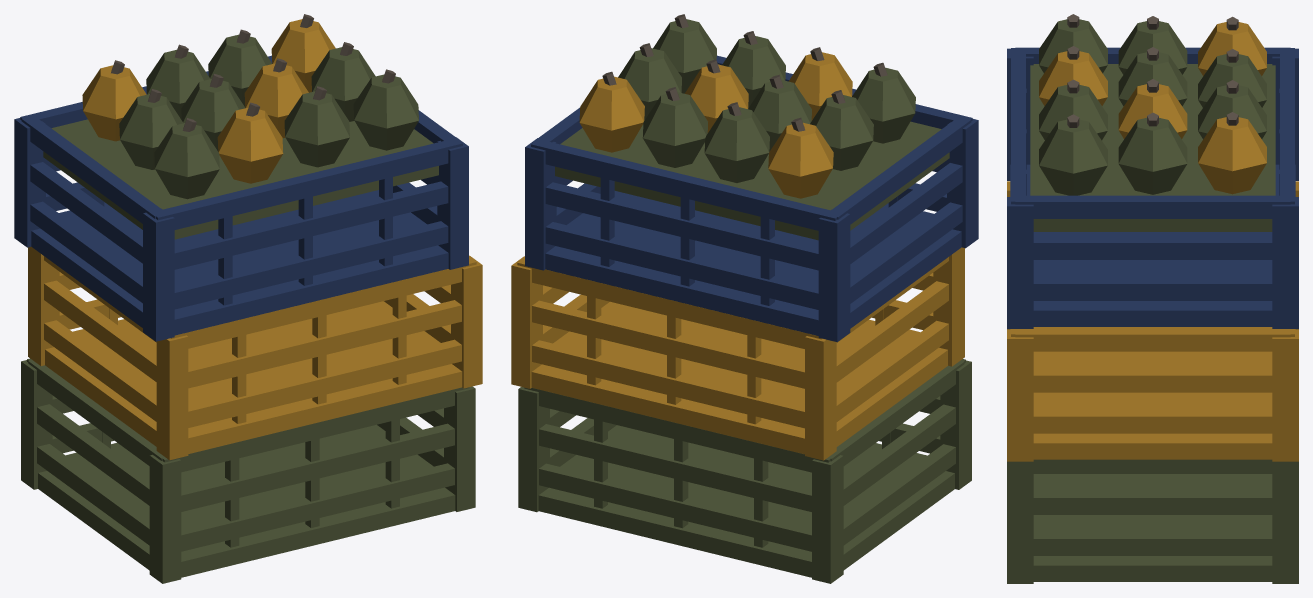
File: bw_targ_crate_stack.glb
3 views of the same model, side by side, from view 1: azimuth 30°, elevation 25°; view 2: azimuth 150°, elevation 25°; view 3: azimuth 270°, elevation 25° (orthographic). The views are drawn at different scales.
Visible parts, largest first — view 1: corner.001, corner.002, corner.003, corner; view 2: corner.001, corner.002, corner.003, corner; view 3: corner.001, corner.002, corner.003, corner.
Boxes of the visible parts, x1,y1,x2,y2 form: corner.001: (21, 34, 475, 583); corner.002: (28, 19, 482, 460); corner.003: (14, 55, 468, 341); corner: (111, 14, 395, 131); corner.001: (518, 19, 971, 583); corner.002: (511, 52, 964, 460); corner.003: (525, 55, 978, 342); corner: (602, 14, 887, 131); corner.001: (1007, 19, 1298, 583); corner.002: (1007, 22, 1298, 461); corner.003: (1007, 47, 1298, 328); corner: (1067, 14, 1238, 127).
Size of the model in its own units: 1.2 by 1.5 by 0.9.
